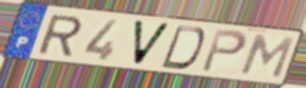4: (82, 19, 120, 62)
D: (158, 24, 207, 71)
M: (237, 33, 297, 80)
P: (199, 28, 249, 75)
R: (35, 14, 84, 58)
V: (131, 18, 173, 68)
